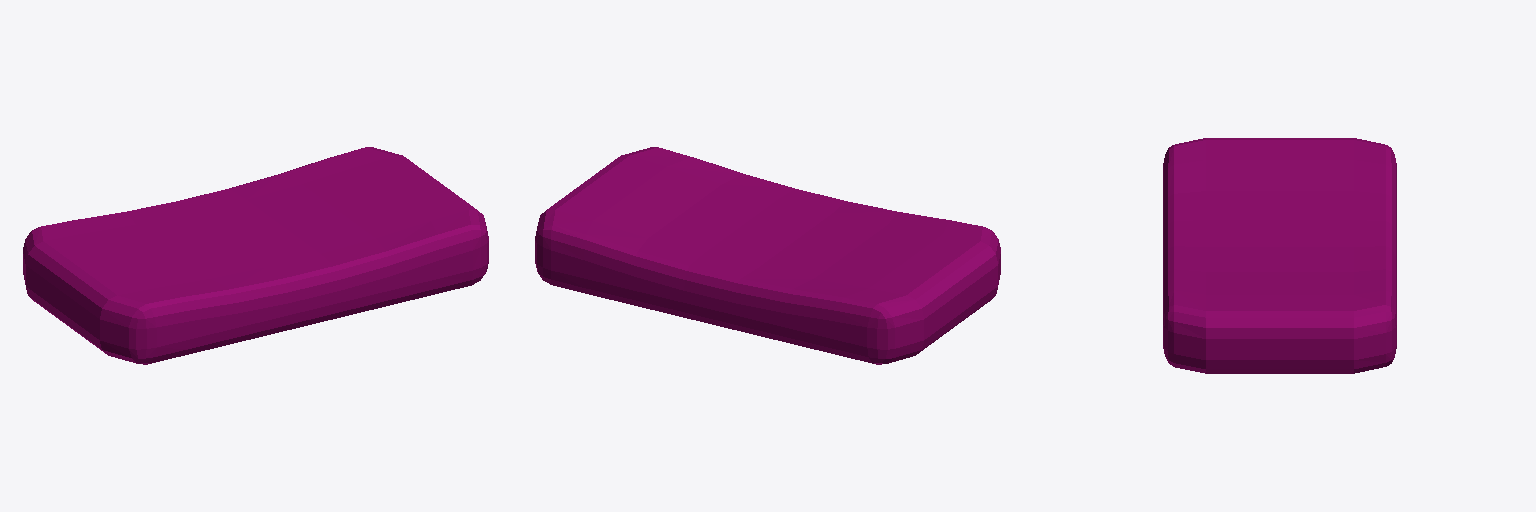
Rendered from PurplePillow.obj.
3 views of the same model, side by side, from view 1: azimuth 30°, elevation 25°; view 2: azimuth 150°, elevation 25°; view 3: azimuth 270°, elevation 25° (orthographic).
Parts seen in each view (by area): view 1: Purple_Pillow_Plane.010; view 2: Purple_Pillow_Plane.010; view 3: Purple_Pillow_Plane.010.
Boxes of the visible parts, x1,y1,x2,y2 form: Purple_Pillow_Plane.010: [23, 147, 488, 364]; Purple_Pillow_Plane.010: [535, 147, 1000, 364]; Purple_Pillow_Plane.010: [1163, 138, 1396, 373].
Bounding box in the file's own units: 0.3722 × 0.0561 × 0.1957.